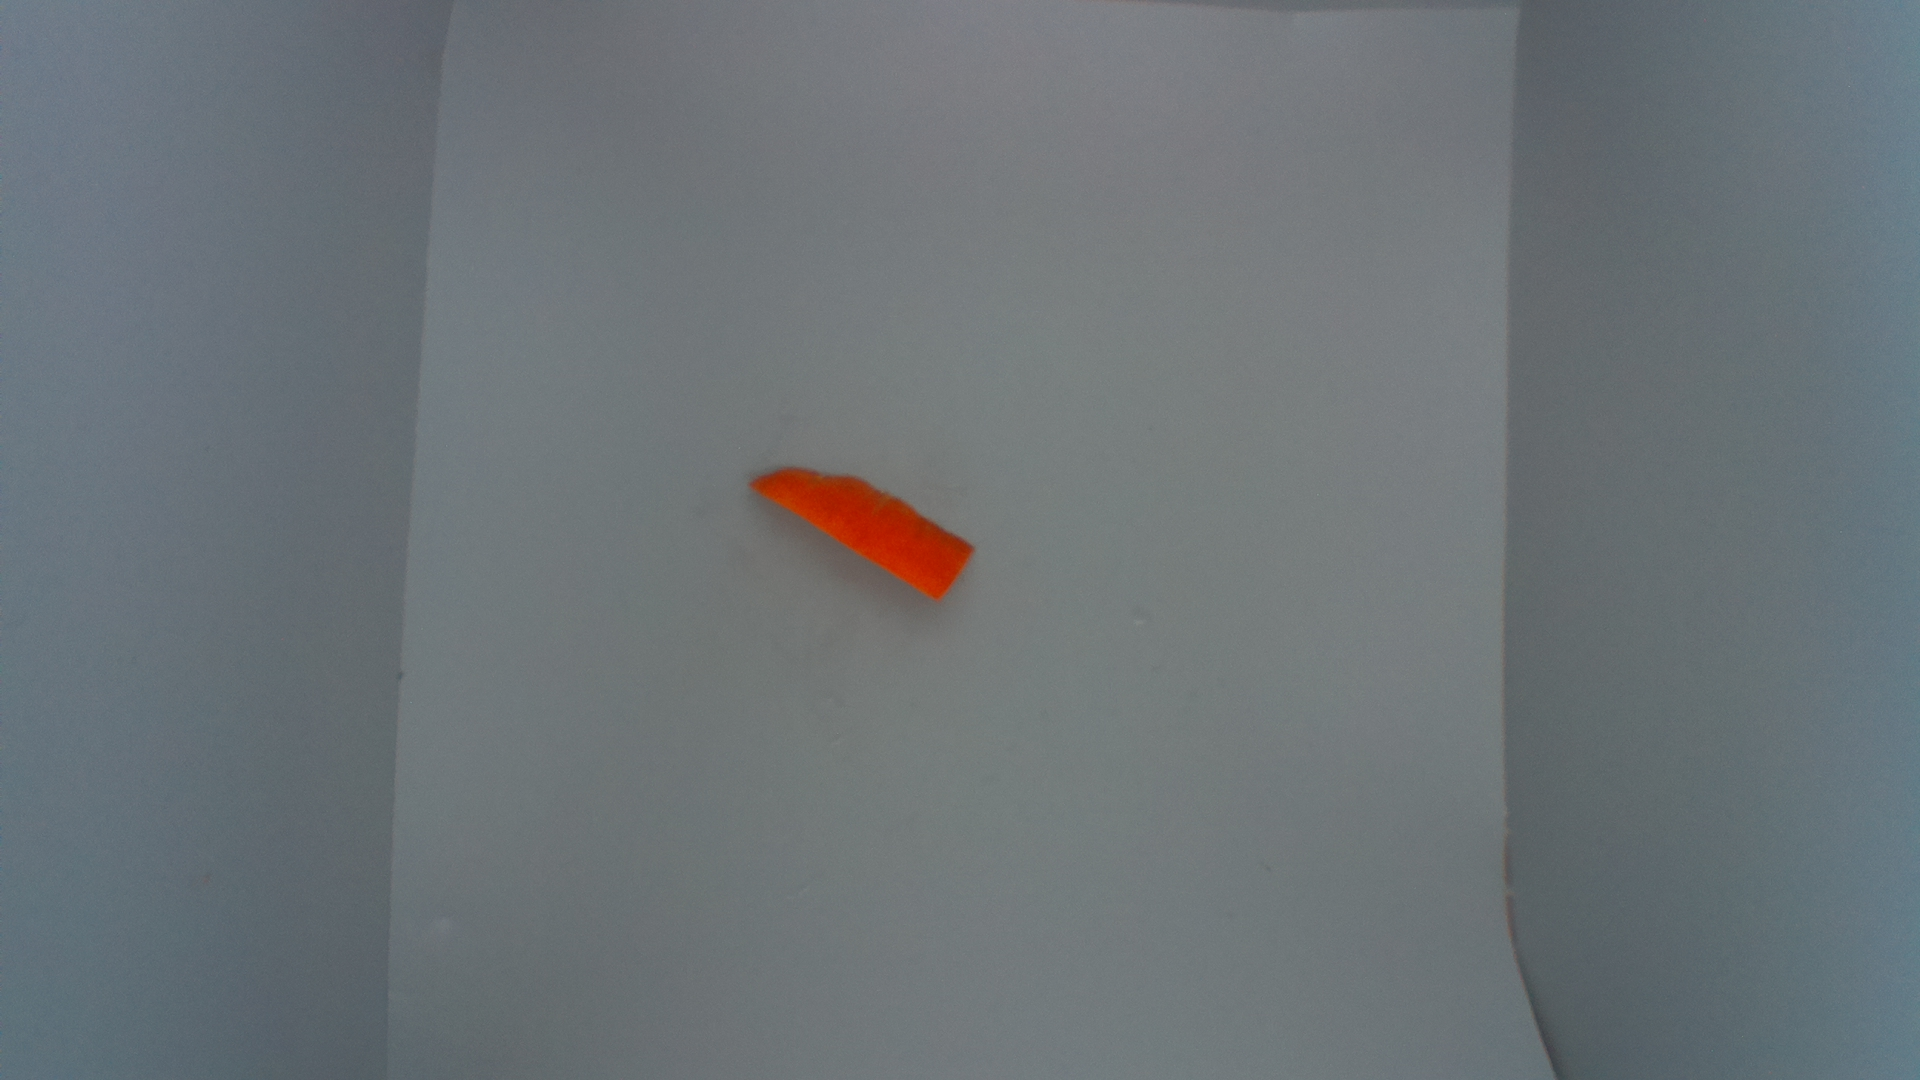carrot: (748, 462, 975, 609)
